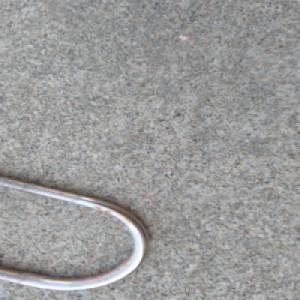ClampPart: (0, 173, 160, 292)
